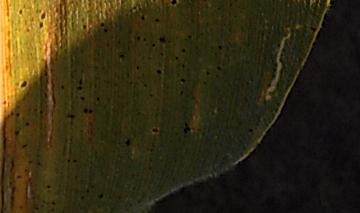tarspot: (75, 76, 83, 92), (182, 120, 191, 134), (156, 34, 167, 45), (151, 16, 162, 26), (8, 158, 15, 173), (149, 126, 160, 135), (123, 136, 132, 147), (168, 1, 180, 9), (83, 185, 91, 197), (154, 67, 163, 76), (138, 14, 147, 23), (96, 191, 105, 200), (13, 128, 22, 137), (201, 77, 208, 88), (179, 75, 186, 86), (246, 126, 254, 135), (66, 111, 74, 120), (118, 52, 126, 61), (185, 33, 194, 41), (147, 91, 155, 100), (134, 34, 142, 43), (20, 142, 29, 150), (308, 24, 317, 32), (216, 42, 223, 52), (87, 107, 94, 117), (179, 61, 185, 72), (215, 64, 223, 72), (179, 46, 187, 54), (20, 80, 28, 88), (98, 21, 106, 29), (141, 34, 149, 42), (178, 88, 185, 97), (157, 50, 164, 59), (134, 63, 141, 72), (15, 171, 22, 180), (273, 106, 280, 115), (203, 68, 210, 76), (23, 120, 31, 127), (79, 94, 86, 102), (71, 157, 79, 164), (173, 54, 179, 63), (38, 107, 44, 116), (40, 11, 45, 21), (102, 28, 109, 35), (141, 81, 148, 88), (49, 206, 56, 213), (38, 21, 44, 29), (95, 95, 101, 103), (82, 106, 88, 114), (18, 7, 24, 15), (115, 36, 120, 45), (150, 42, 156, 49), (15, 111, 21, 118), (81, 24, 87, 31), (59, 84, 66, 90), (50, 200, 57, 206), (227, 1, 234, 7), (118, 1, 128, 5), (105, 38, 109, 48), (45, 183, 51, 189), (79, 193, 85, 199), (275, 42, 281, 48), (281, 47, 286, 53), (66, 157, 70, 164)
